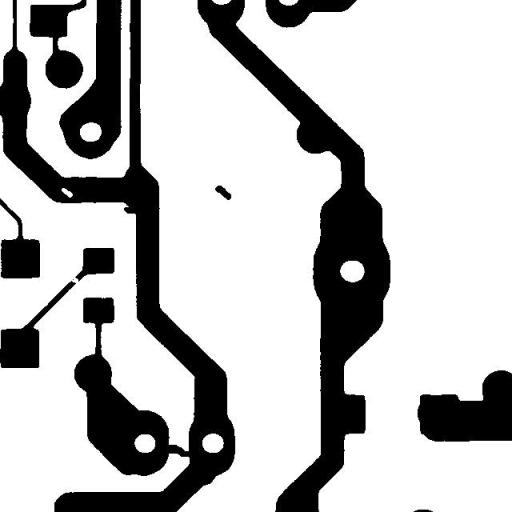copper: (208, 178, 238, 207)
open: (58, 266, 89, 296)
pin-hole: (54, 180, 80, 205)
short: (157, 436, 201, 466)
spur: (116, 199, 146, 221)
